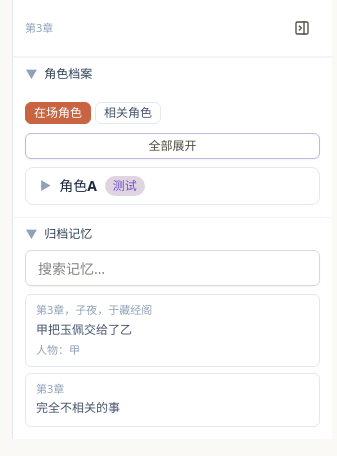
Test: SandboxCharacterPanel 归档记忆分组 › 搜索框按子串过滤，清空后恢复全量
This screenshot has width=337, height=456.
Expected: the text "甲把玉佩交给了乙" is shown, [36,321,132,338]
Type "玉佩" into the field with placeholder "搜索记忆…" at (172, 268), box [25,250,320,286]
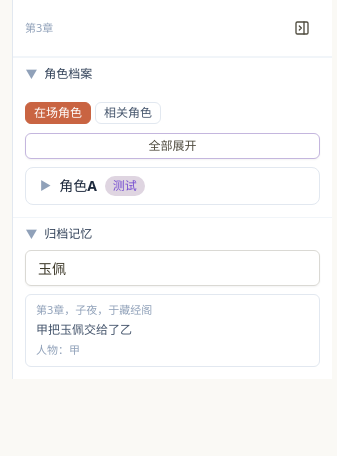
Expected: the text "甲把玉佩交给了乙" is shown, [36,321,132,338]
Expected: the button "完全不相关的事" is gone
Clear the field with placeholder "搜索记忆…" at (172, 268), box [25,250,320,286]
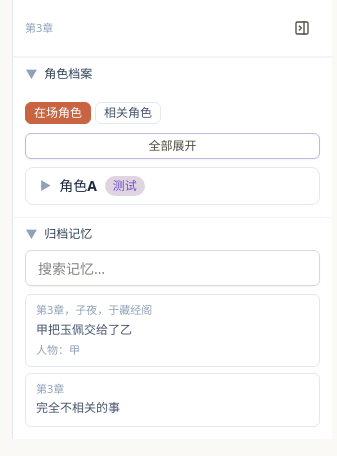
Expected: the text "完全不相关的事" is shown, [36,400,120,416]
